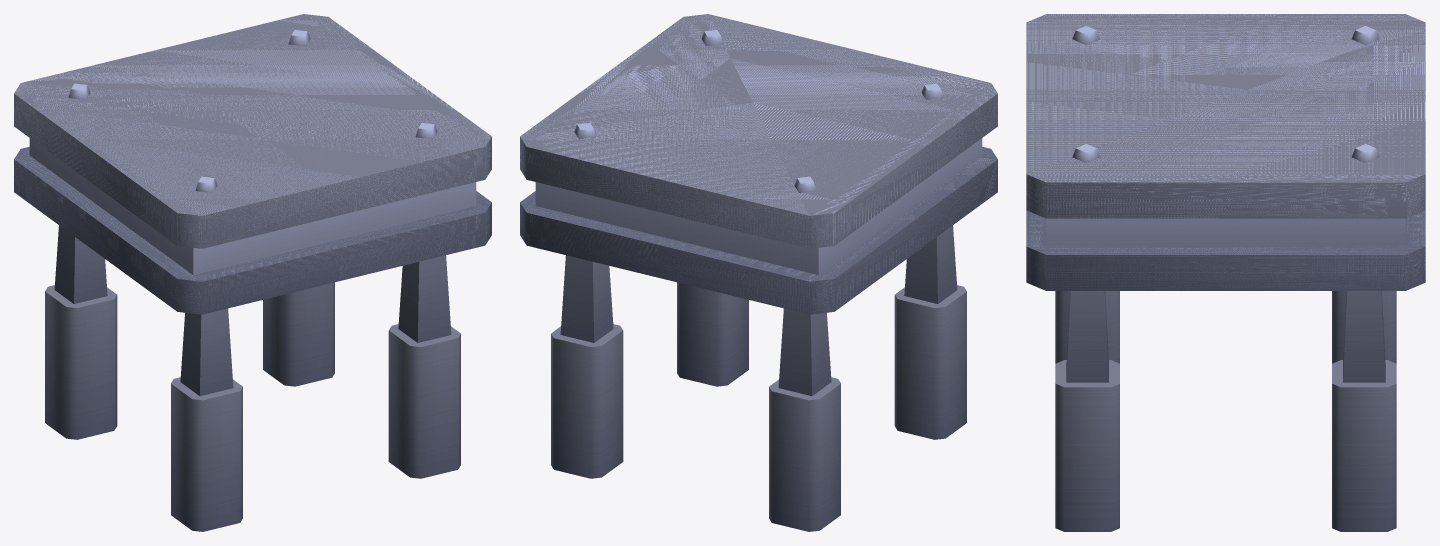
The model's file is structure-metal-floor_lev3.glb.
The picture shows the model from 3 angles, left to right: view 1: azimuth 30°, elevation 25°; view 2: azimuth 150°, elevation 25°; view 3: azimuth 270°, elevation 25°; orthographic projection. The views are drawn at different scales.
Visible parts, largest first — view 1: structure-metal-floor_lev3; view 2: structure-metal-floor_lev3; view 3: structure-metal-floor_lev3.
Part boxes in pixels (left/top/right/bottom): structure-metal-floor_lev3: left=14, top=14, right=491, bottom=531; structure-metal-floor_lev3: left=520, top=14, right=997, bottom=531; structure-metal-floor_lev3: left=1026, top=14, right=1425, bottom=531.
Size of the model in its own units: 6.33 by 6.49 by 6.33.
Materials: 1 (1 with a texture image).
